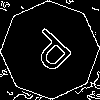P: (25, 25, 81, 81)
